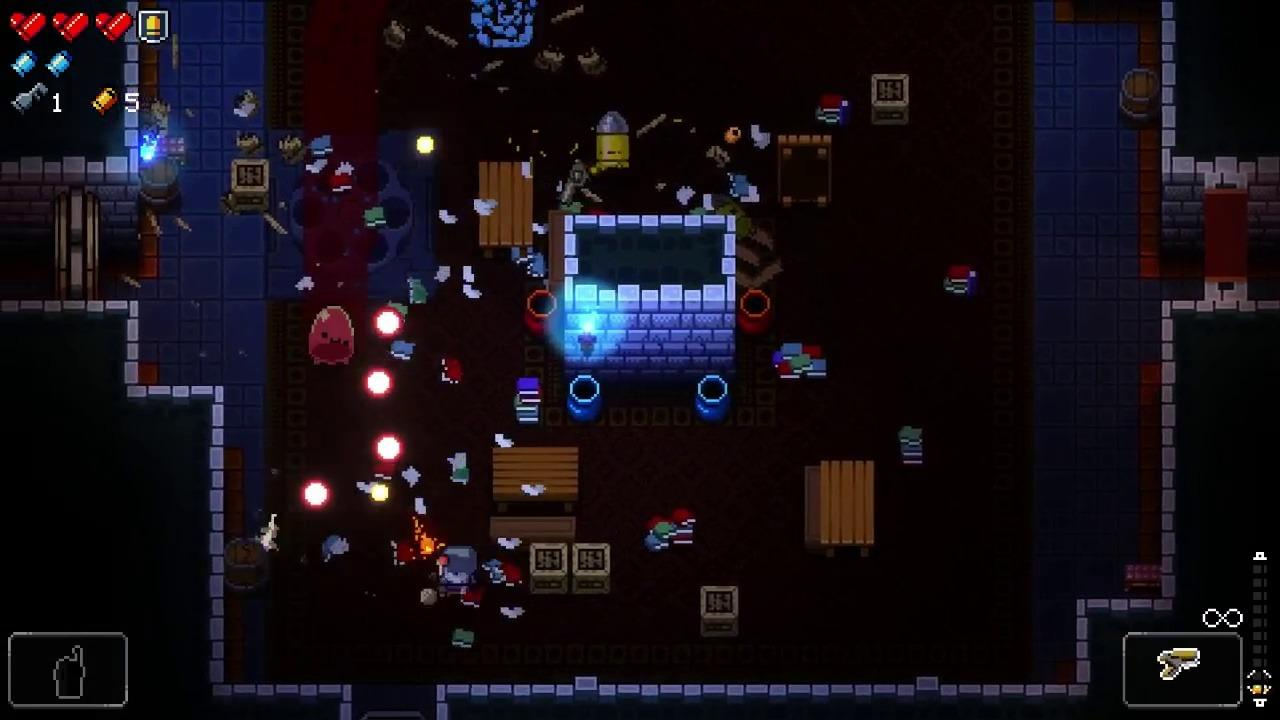blobulon_l: (307, 307, 354, 365)
blocked_door: (1205, 170, 1252, 302)
bullet: (364, 368, 392, 398), (301, 480, 329, 509), (375, 309, 403, 337), (376, 434, 403, 463)
bullet_kin: (597, 112, 630, 170)
locked_door: (54, 183, 97, 303)
player: (438, 547, 477, 600)
table: (493, 446, 580, 513), (820, 460, 874, 557), (479, 160, 532, 257), (776, 134, 833, 209)
teleporter: (268, 128, 435, 301)
